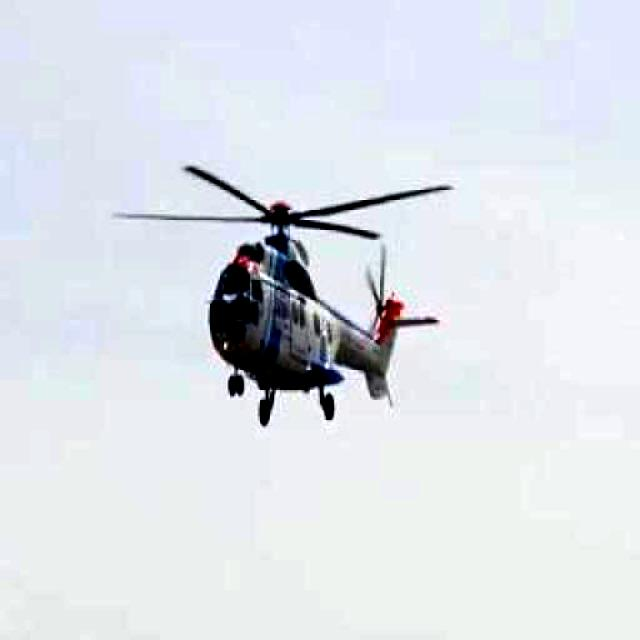drone: (78, 122, 484, 442)
